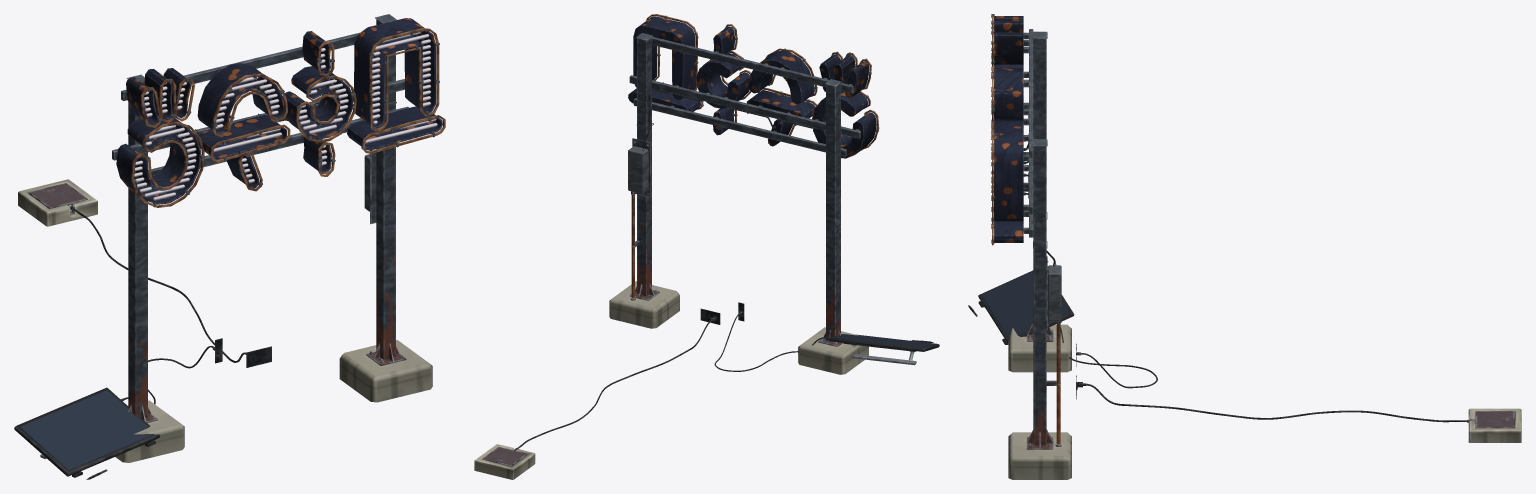
Rendered from props_claro.glb.
3 renders of one model, left to right at view 1: azimuth 30°, elevation 25°; view 2: azimuth 150°, elevation 25°; view 3: azimuth 270°, elevation 25°, orthographic. The views are drawn at different scales.
Parts seen in each view (by area): view 1: Prop_LetreroOpen, Prop_RenderboxCintiq_Pantalla, Prop_RenderboxCable, Prop_RenderboxCintiq_Cuerpo, Prop_RenderboxCintiq; view 2: Prop_LetreroOpen, Prop_RenderboxCable, Prop_RenderboxCintiq_Cuerpo, Prop_RenderboxCintiq_Pantalla; view 3: Prop_LetreroOpen, Prop_RenderboxCable, Prop_RenderboxCintiq_Pantalla, Prop_RenderboxCintiq_Cuerpo.
Boxes of the visible parts, bbox=[...] form: Prop_LetreroOpen: bbox=[112, 14, 445, 462]; Prop_RenderboxCintiq_Pantalla: bbox=[20, 390, 154, 470]; Prop_RenderboxCable: bbox=[18, 179, 271, 367]; Prop_RenderboxCintiq_Cuerpo: bbox=[14, 387, 160, 477]; Prop_RenderboxCintiq: bbox=[86, 338, 222, 479]; Prop_LetreroOpen: bbox=[609, 14, 879, 374]; Prop_RenderboxCable: bbox=[474, 308, 720, 479]; Prop_RenderboxCintiq_Cuerpo: bbox=[828, 334, 939, 365]; Prop_RenderboxCintiq_Pantalla: bbox=[832, 334, 935, 347]; Prop_LetreroOpen: bbox=[991, 14, 1071, 479]; Prop_RenderboxCable: bbox=[1076, 375, 1521, 442]; Prop_RenderboxCintiq_Pantalla: bbox=[982, 271, 1069, 338]; Prop_RenderboxCintiq_Cuerpo: bbox=[978, 270, 1074, 344].
Bounding box in the file's own units: 2.34 × 2.12 × 3.13.
1 material, 1 textured.
